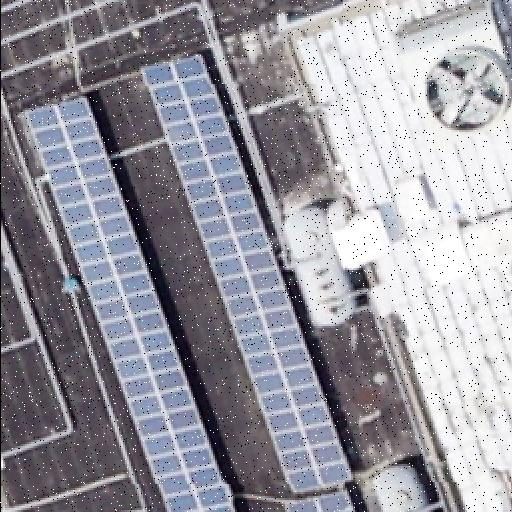solar-panel: (142, 58, 350, 494), (25, 96, 239, 512), (283, 489, 349, 511)
